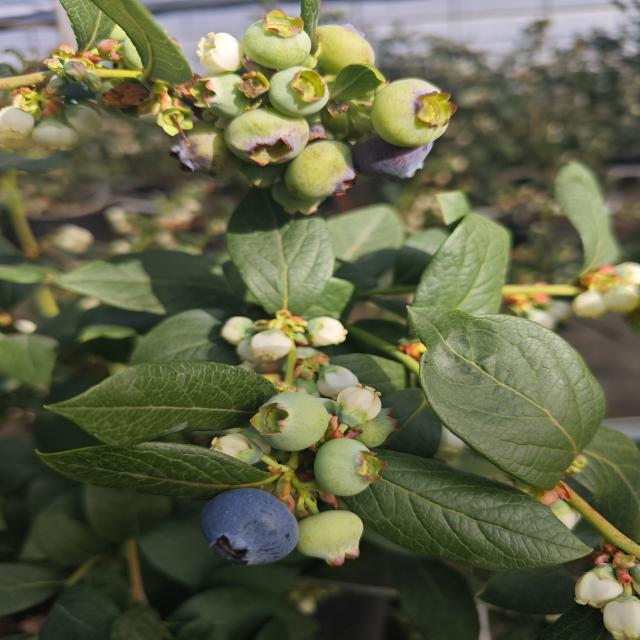ripe: (186, 484, 302, 570), (350, 121, 442, 185)
